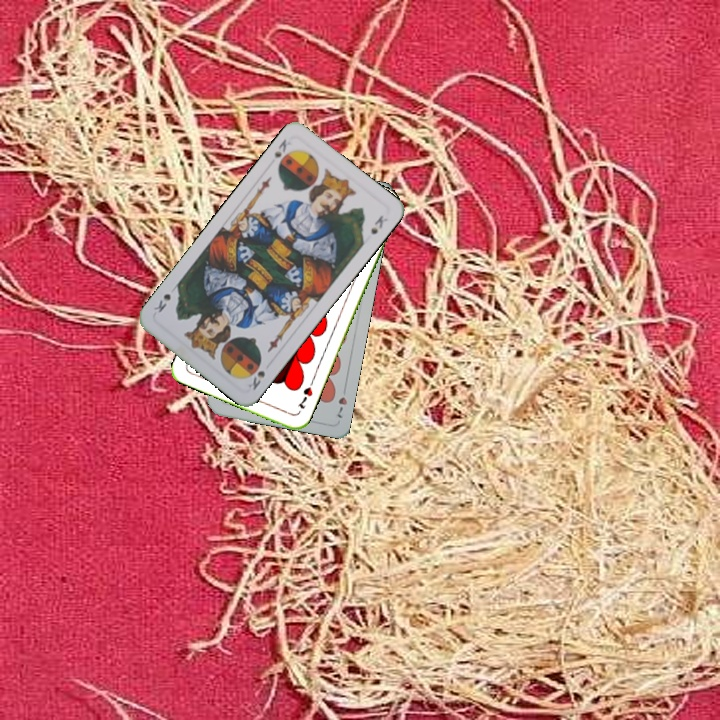H7: (293, 377, 316, 411), (333, 382, 350, 421)
SK: (244, 358, 268, 393), (270, 135, 293, 160)
